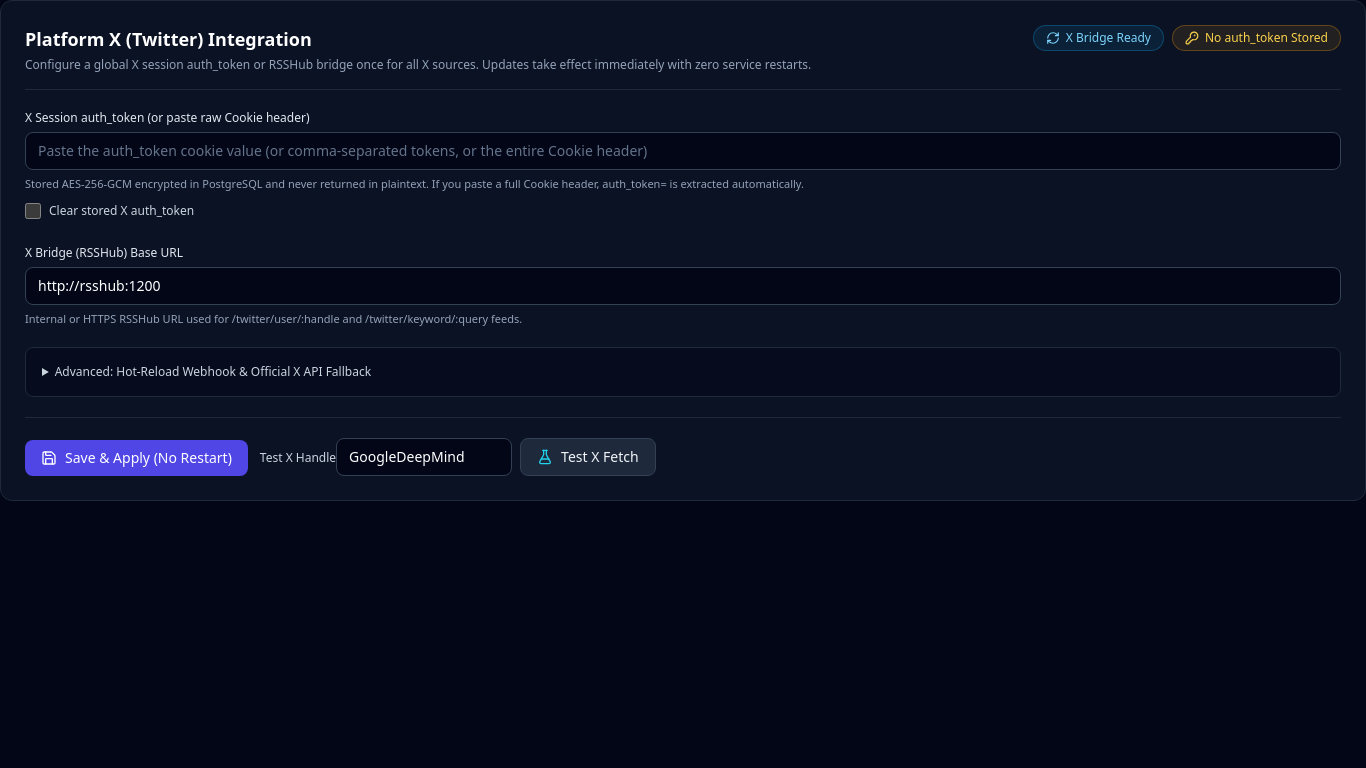
Scenario: PlatformAdminPanel › loads masked platform state, saves new auth_token with bridge reload feedback, and runs live X test
Expected: the heading "Platform X (Twitter) Integration" is shown, [25,27,312,51]
Expected: the text "No auth_token Stored" is shown, [1172,25,1341,51]
Type "a0a3_sample_token_1cac" into the password field labelled "X Session auth_token (or paste raw Cookie header)". click: {"x": 683, "y": 151}
box: [25,132,1341,170]
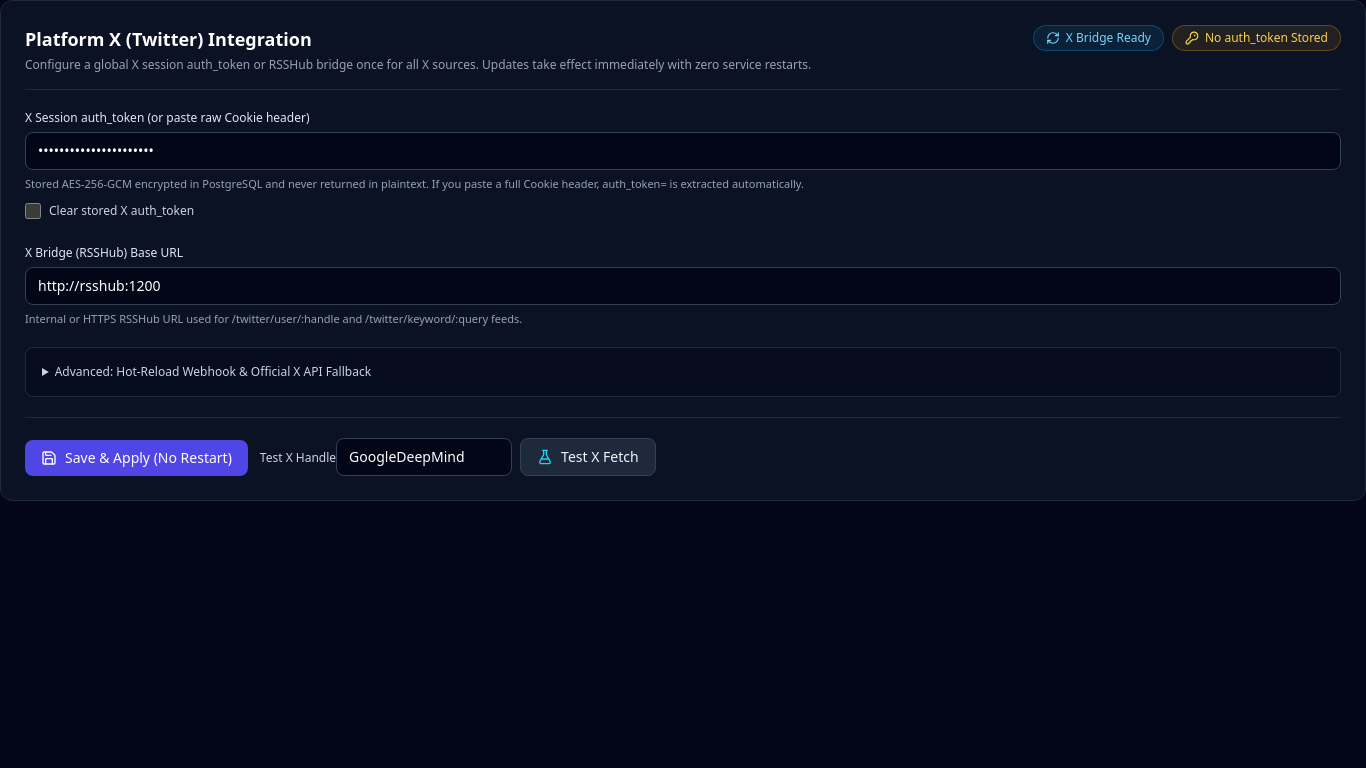
Click the button "Save & Apply (No Restart)". click: {"x": 136, "y": 458}
box: [25,440,248,476]
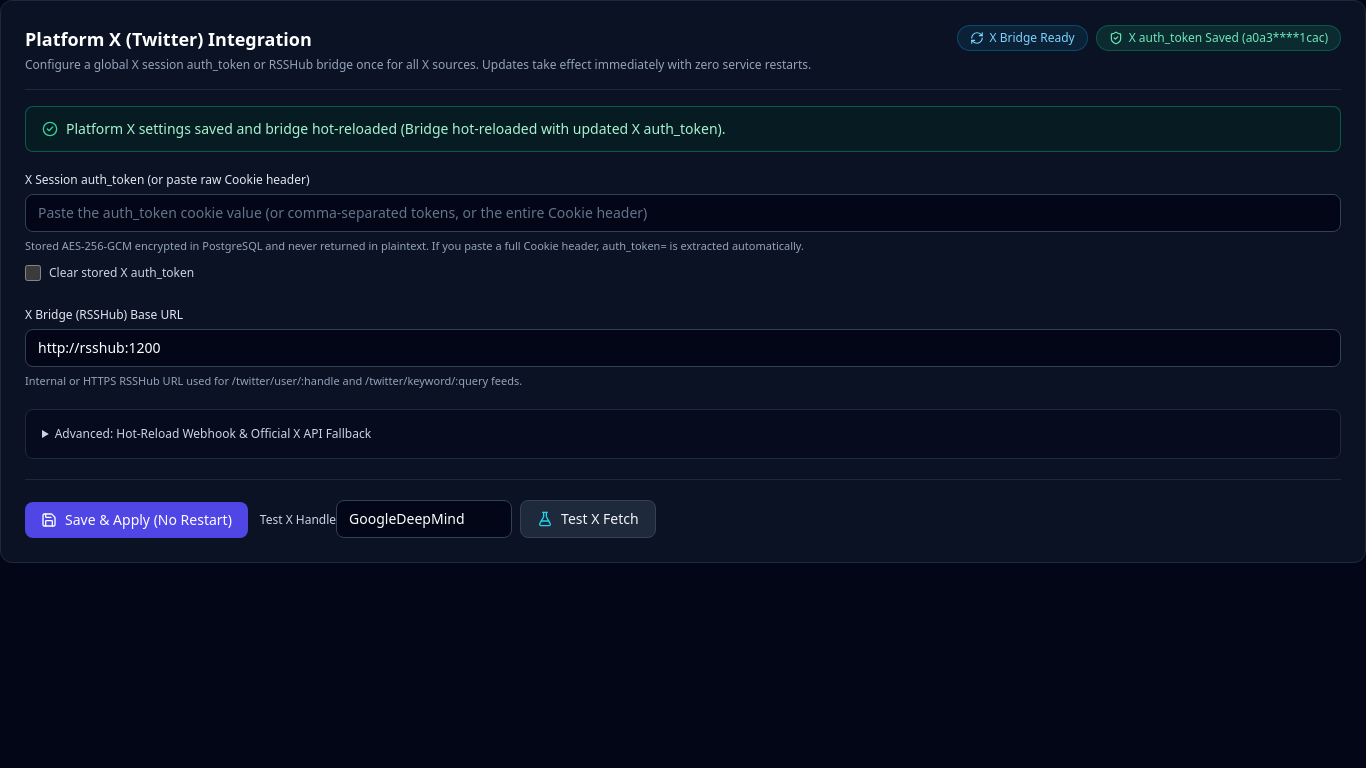
Expected: the text "bridge hot-reloaded" is shown, [66,119,726,138]
Expected: the text "X auth_token Saved (a0a3****1cac)" is shown, [1096,25,1341,51]
Click the button "Test X Fetch". click: {"x": 588, "y": 519}
box: [520,500,656,538]
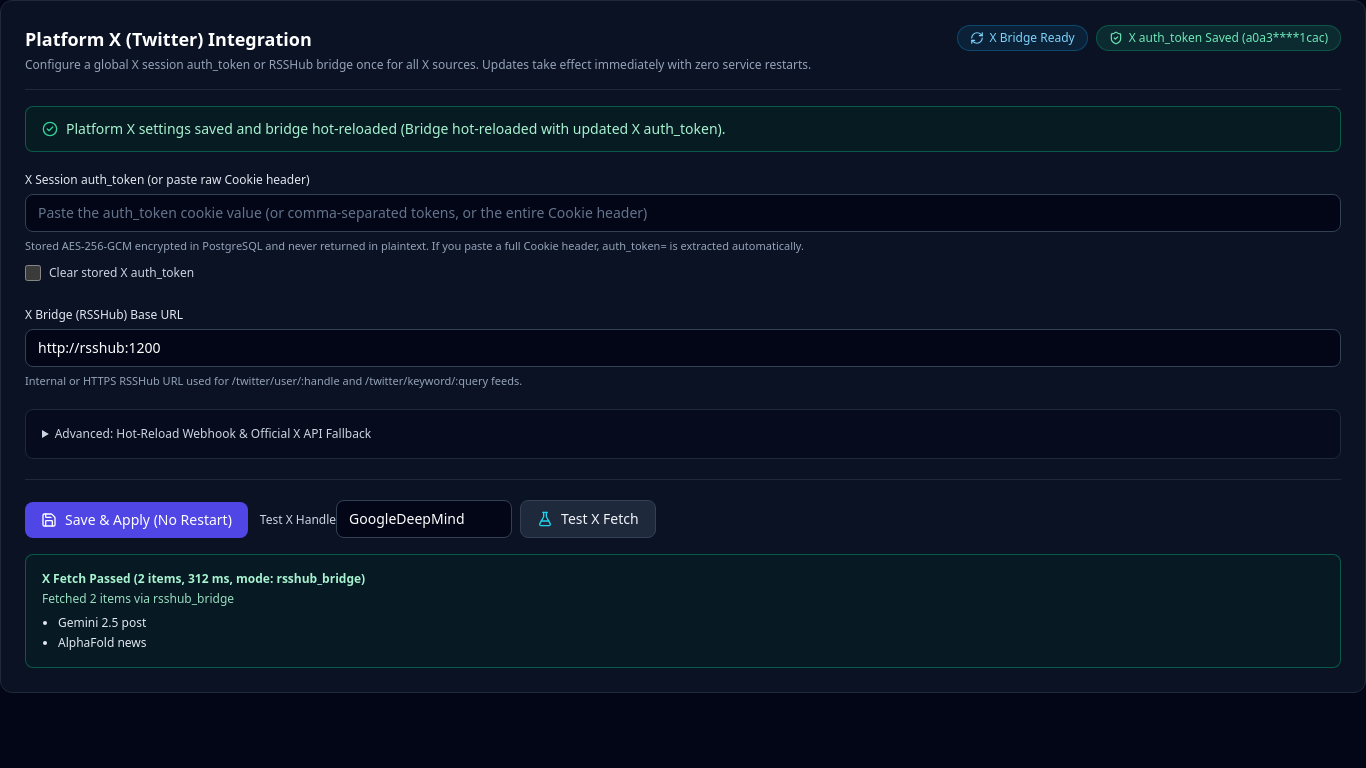
Expected: the text "X Fetch Passed (2 items, 312 ms, mode: rsshub_bridge)" is shown, [42,570,365,587]
Expected: the list item "Gemini 2.5 post" is shown, [58,614,146,631]
